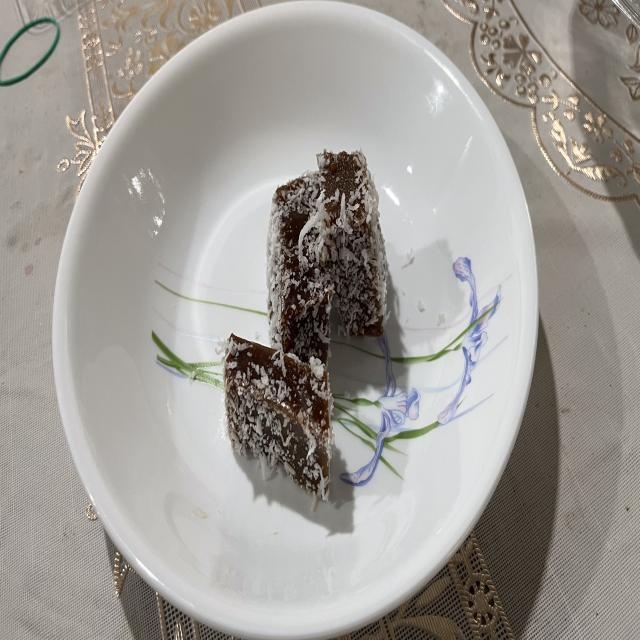kaswi: (224, 333, 332, 502), (266, 168, 333, 371), (318, 153, 390, 339)
